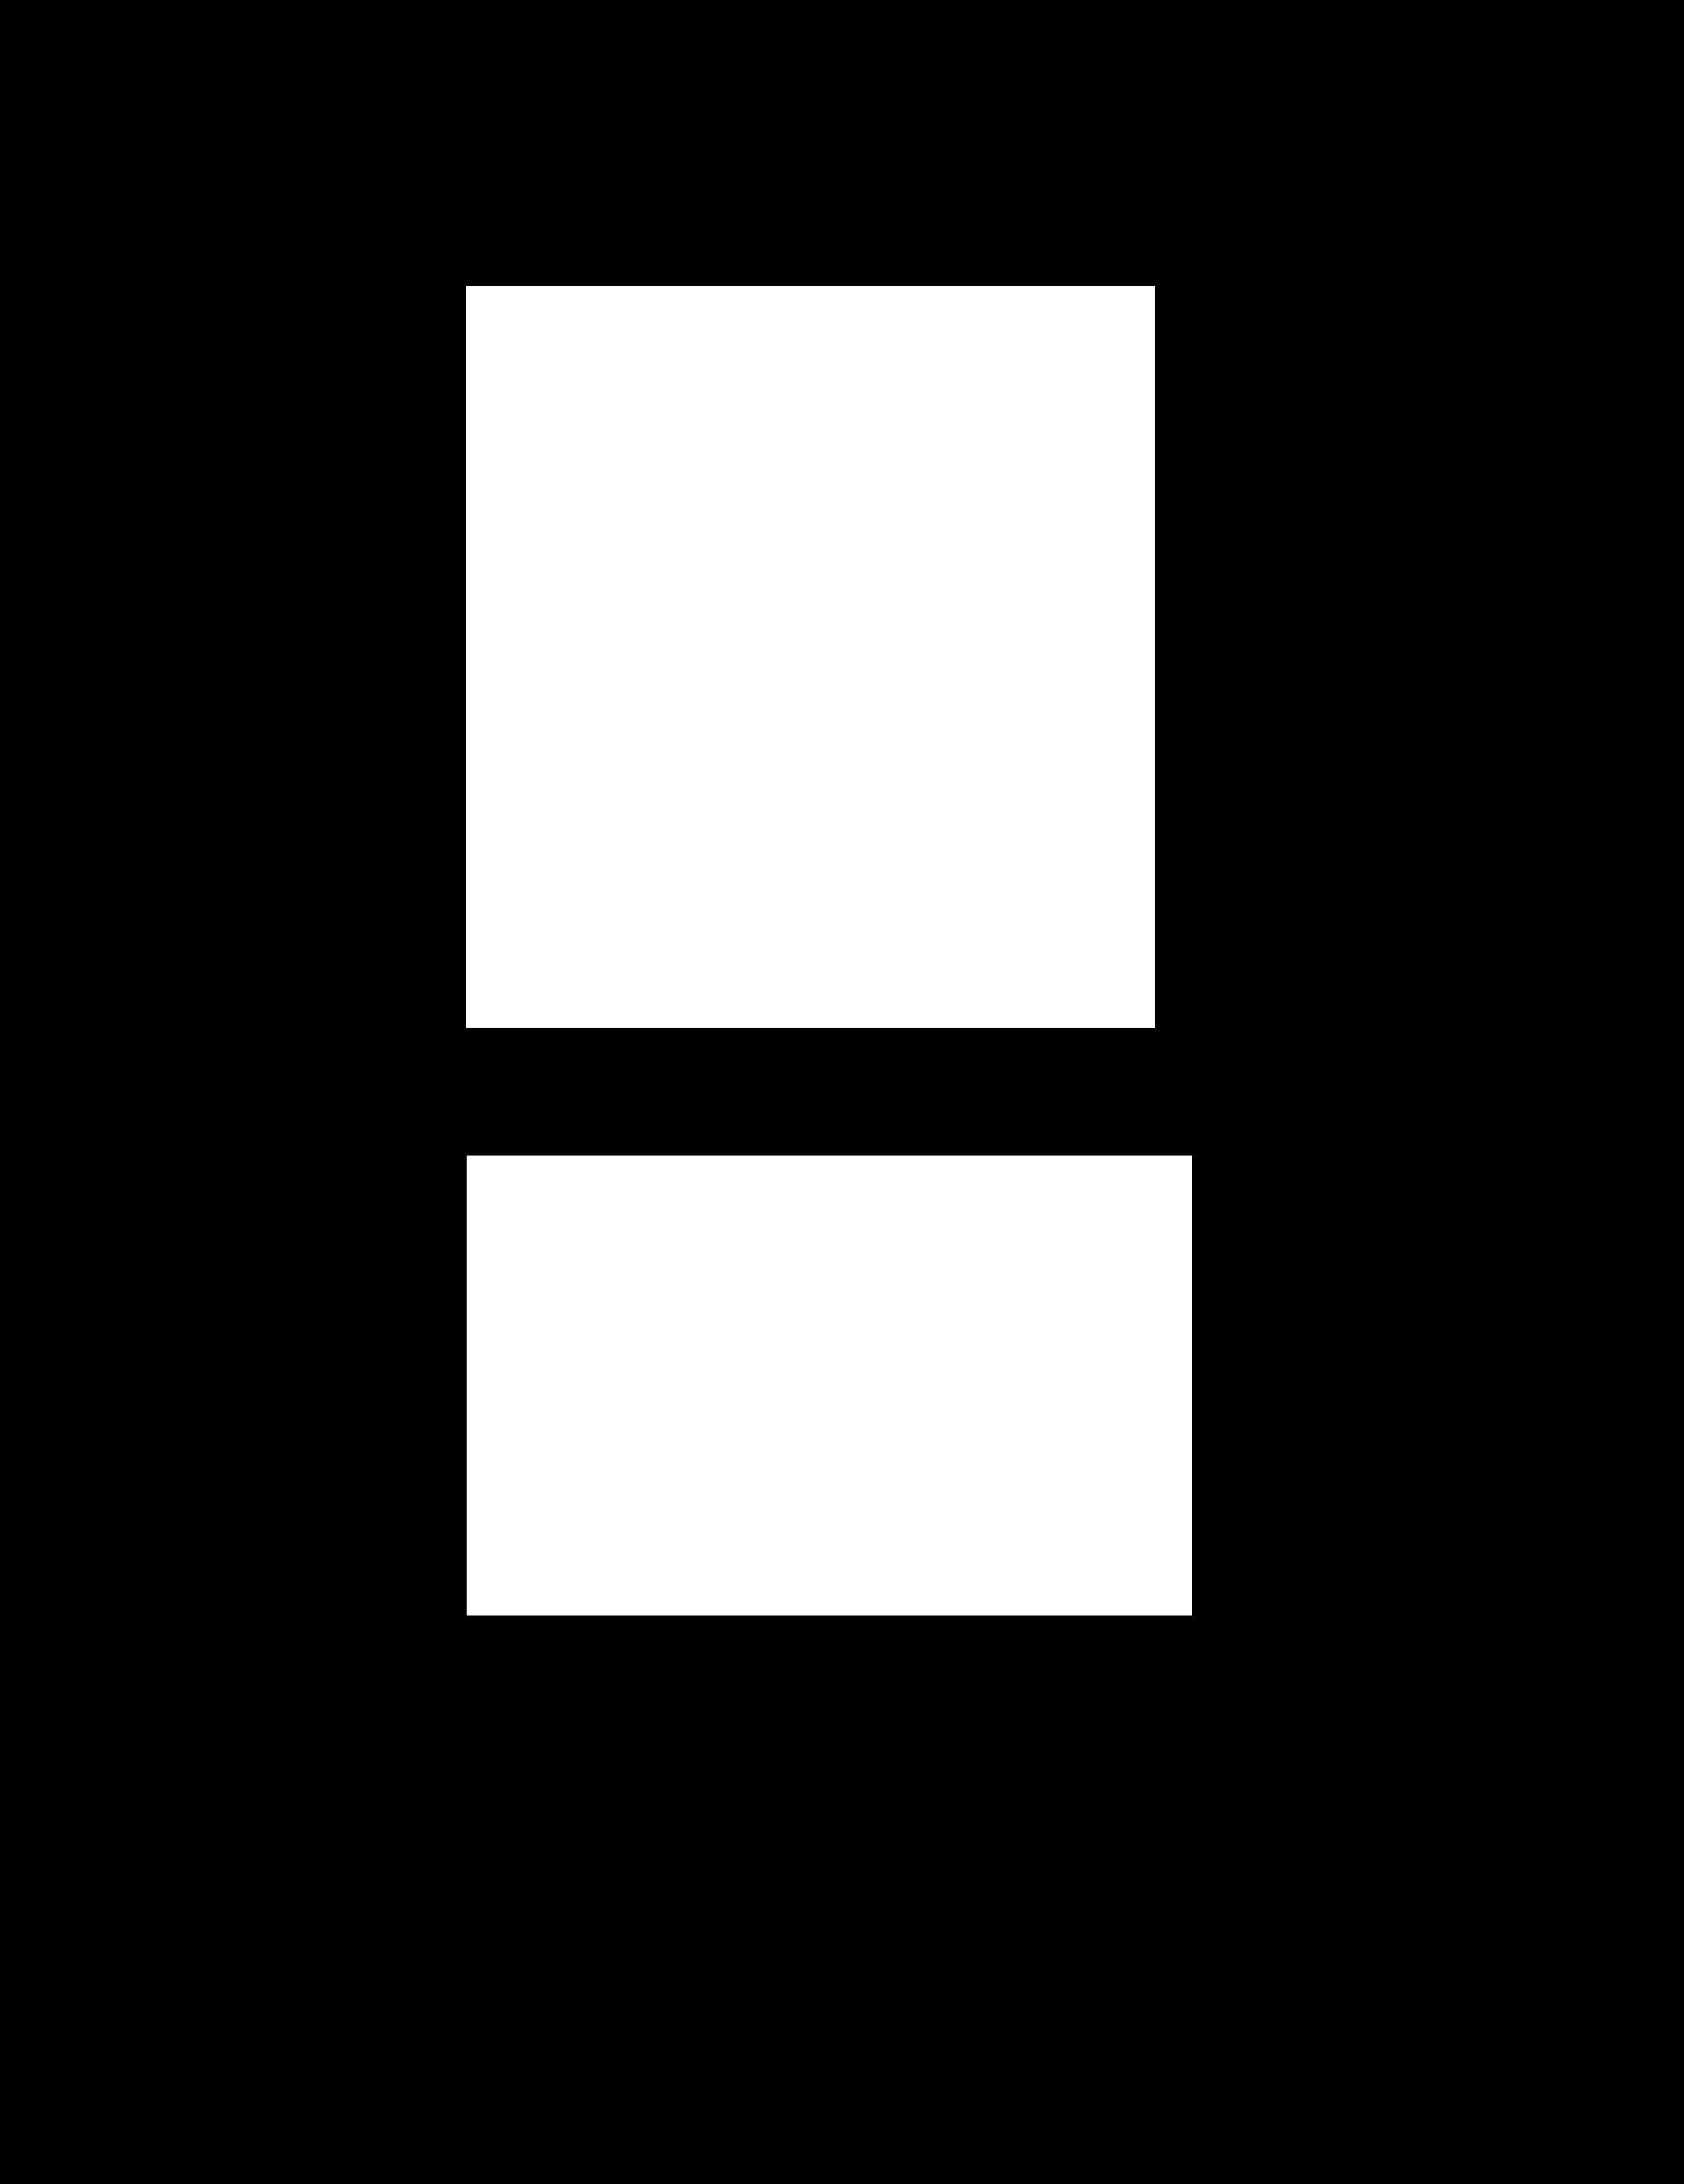table: (465, 286, 1155, 1027), (467, 1155, 1192, 1615)
